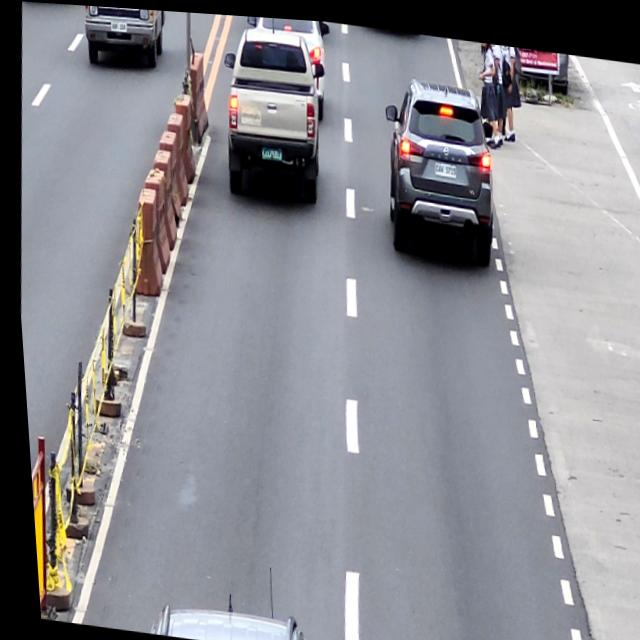Car: (372, 68, 502, 263), (213, 18, 333, 201), (239, 13, 334, 117)
License-Plate: (431, 156, 456, 172), (258, 142, 280, 158)
